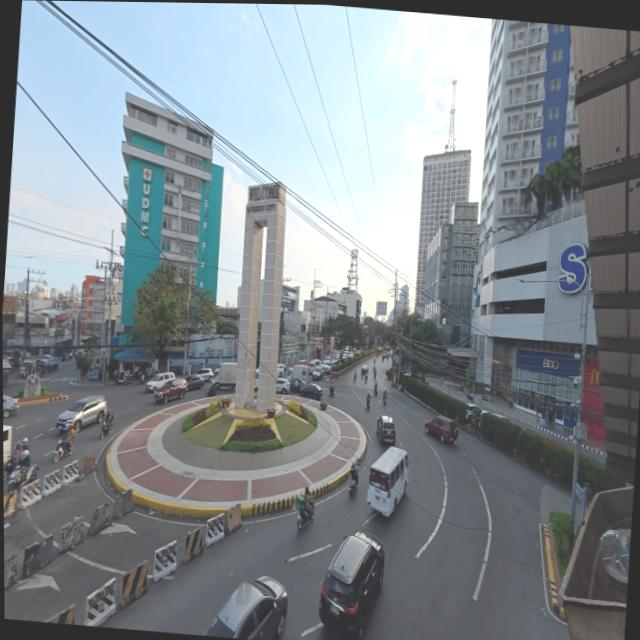car: (318, 532, 385, 639), (206, 576, 288, 639), (56, 395, 107, 432), (425, 416, 458, 443), (154, 379, 188, 403), (376, 417, 396, 446), (146, 372, 175, 391), (300, 384, 323, 400), (3, 395, 19, 418), (21, 358, 40, 376), (187, 375, 206, 390), (491, 412, 512, 424), (42, 357, 60, 371), (466, 403, 480, 420), (289, 378, 306, 392), (276, 378, 290, 394), (199, 368, 214, 382), (313, 365, 324, 381), (320, 360, 332, 374), (277, 363, 285, 377), (3, 372, 9, 386), (361, 365, 369, 375), (386, 368, 393, 378), (348, 352, 354, 358)
motorcycle: (9, 464, 38, 492), (297, 502, 315, 529), (52, 439, 72, 462), (100, 415, 113, 439), (3, 459, 14, 482), (114, 369, 128, 385), (349, 474, 358, 495), (207, 382, 217, 397), (365, 396, 370, 409), (467, 392, 474, 401), (383, 393, 387, 405), (330, 386, 334, 397), (354, 371, 357, 381), (374, 388, 377, 396), (365, 375, 368, 383), (374, 371, 376, 379)
trucks: (217, 362, 236, 389), (287, 365, 311, 382)
vans: (368, 447, 409, 516), (3, 425, 11, 466), (310, 360, 321, 370)
